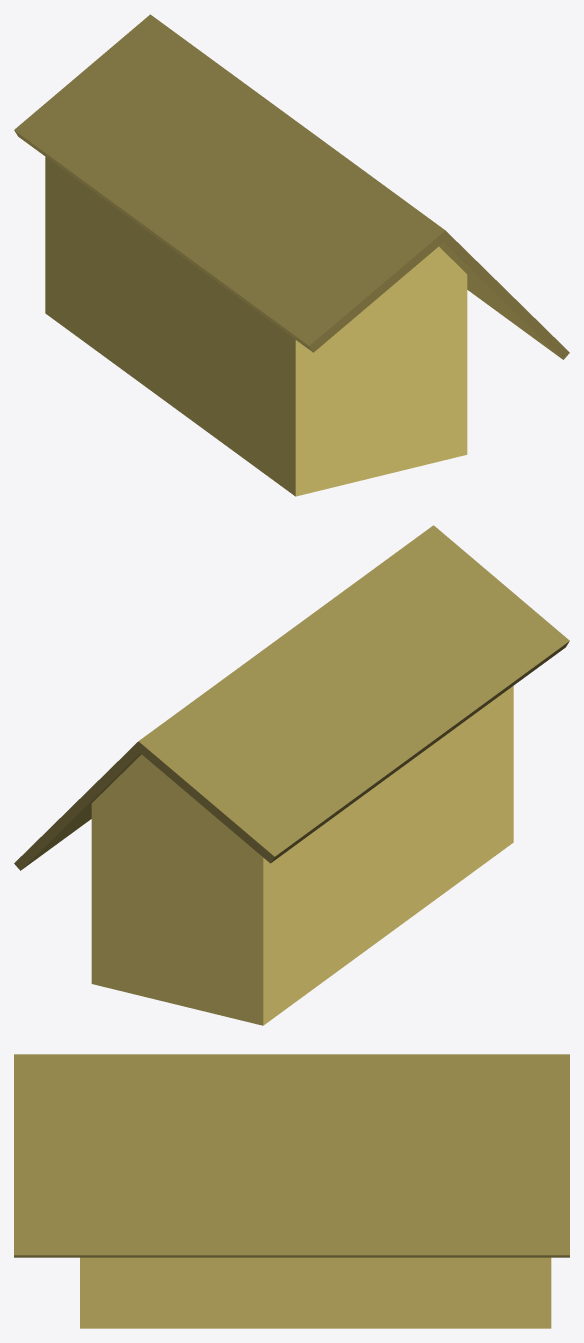
The model's file is result.glb.
The picture shows the model from 3 angles, top to bottom: view 1: azimuth 30°, elevation 25°; view 2: azimuth 150°, elevation 25°; view 3: azimuth 270°, elevation 25°; orthographic projection. The views are drawn at different scales.
Parts seen in each view (by area): view 1: d33bc520-f275-4203-968e-58177b4afb86__undefined, f410a263-3b7b-4139-a44d-6a7c67a5e7e2__undefined (×2); view 2: d33bc520-f275-4203-968e-58177b4afb86__undefined, f410a263-3b7b-4139-a44d-6a7c67a5e7e2__undefined (×2); view 3: f410a263-3b7b-4139-a44d-6a7c67a5e7e2__undefined, d33bc520-f275-4203-968e-58177b4afb86__undefined.
Boxes of the visible parts, bbox=[...] form: d33bc520-f275-4203-968e-58177b4afb86__undefined: bbox=[45, 157, 467, 496]; f410a263-3b7b-4139-a44d-6a7c67a5e7e2__undefined (×2): bbox=[14, 14, 569, 359]; d33bc520-f275-4203-968e-58177b4afb86__undefined: bbox=[91, 686, 513, 1025]; f410a263-3b7b-4139-a44d-6a7c67a5e7e2__undefined (×2): bbox=[14, 525, 569, 870]; f410a263-3b7b-4139-a44d-6a7c67a5e7e2__undefined: bbox=[14, 1054, 569, 1257]; d33bc520-f275-4203-968e-58177b4afb86__undefined: bbox=[80, 1257, 551, 1328].
Size of the model in its own units: 762 by 736 by 1493.
